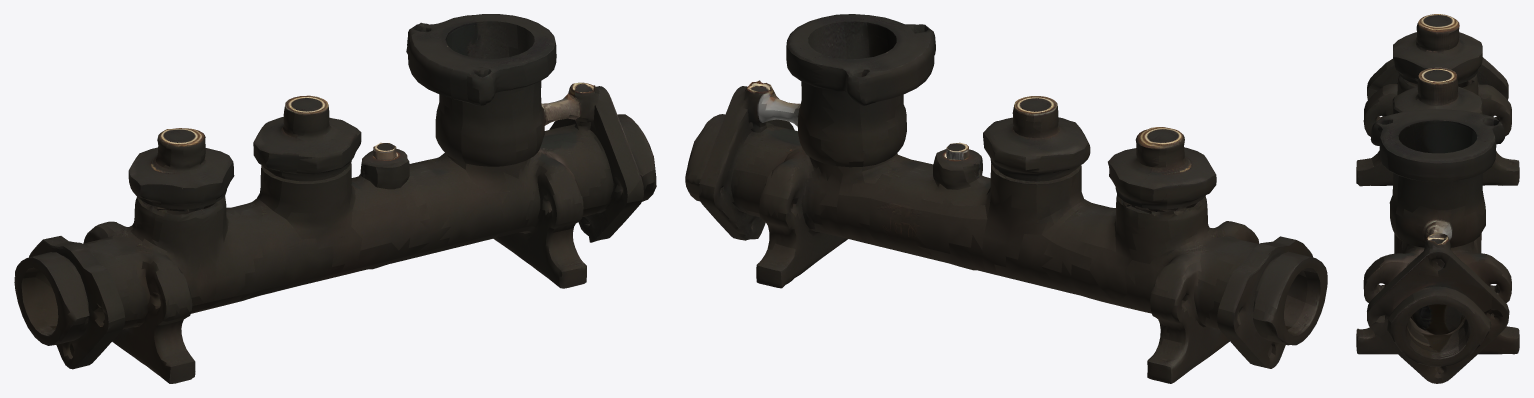
The model's file is fuel-rail-gdi.glb.
The picture shows the model from 3 angles, left to right: view 1: azimuth 30°, elevation 25°; view 2: azimuth 150°, elevation 25°; view 3: azimuth 270°, elevation 25°; orthographic projection. The views are drawn at different scales.
Size of the model in its own units: 1.9 by 0.6893 by 0.5144.
Materials: 1 (1 with a texture image).
